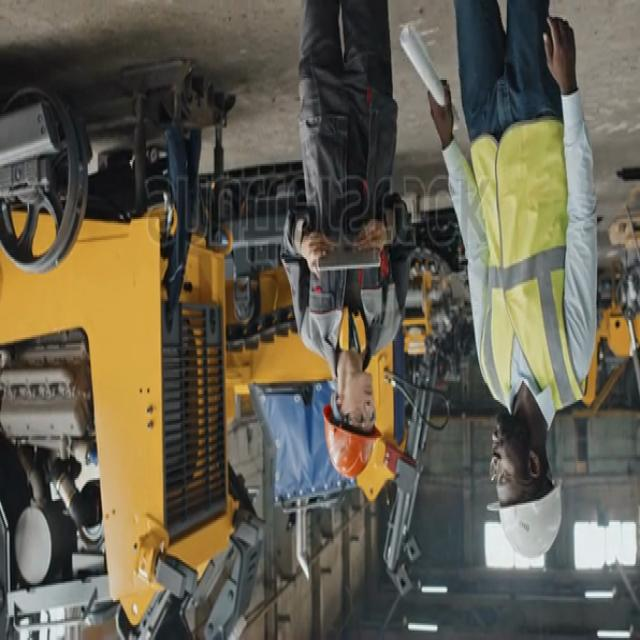Ear-Protection: (333, 303, 368, 364)
Glasses: (339, 402, 377, 437), (486, 462, 515, 495)
Helmet: (491, 488, 568, 566), (322, 400, 383, 480)
Vest: (474, 126, 586, 418)
